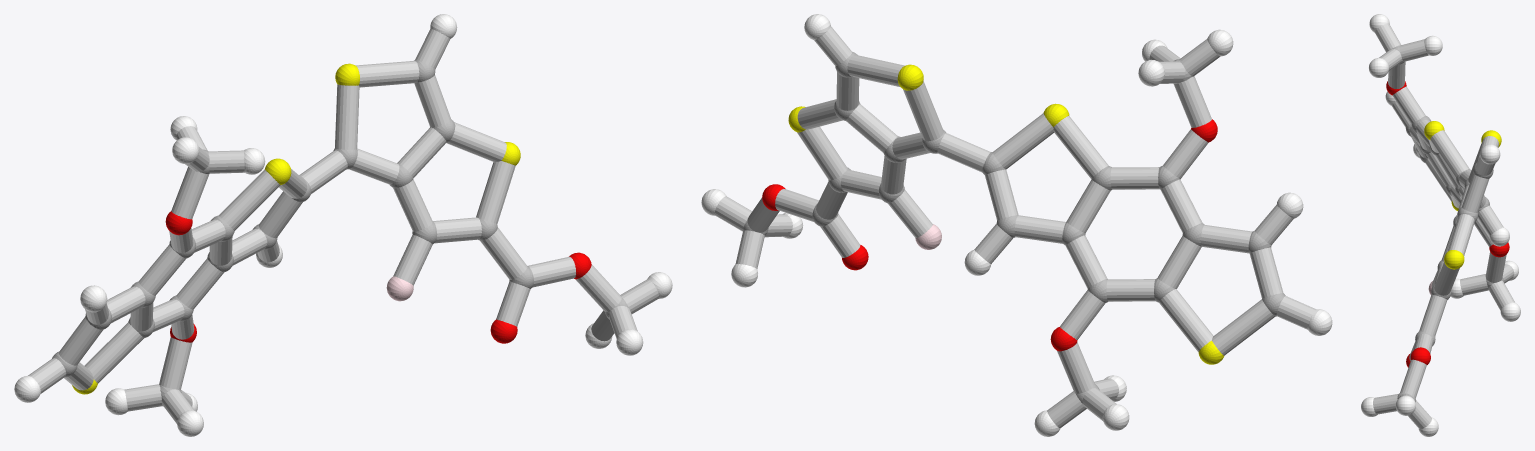
The model's file is color.glb.
The picture shows the model from 3 angles, left to right: view 1: azimuth 30°, elevation 25°; view 2: azimuth 150°, elevation 25°; view 3: azimuth 270°, elevation 25°; orthographic projection. The views are drawn at different scales.
Parts seen in each view (by area): view 1: grp15205, grp8689, grp1, grp13395, grp7241; view 2: grp15205, grp8689, grp1, grp7241, grp13395; view 3: grp15205, grp8689, grp1, grp7241, grp13395.
Boxes of the visible parts, x1,y1,x2,y2 form: grp15205: [28, 29, 659, 423]; grp8689: [14, 14, 672, 436]; grp1: [52, 59, 628, 406]; grp13395: [165, 211, 591, 343]; grp7241: [72, 63, 520, 394]; grp15205: [714, 26, 1316, 428]; grp8689: [701, 14, 1332, 436]; grp1: [743, 52, 1285, 403]; grp7241: [788, 64, 1224, 364]; grp13395: [762, 119, 1217, 351]; grp15205: [1373, 24, 1514, 429]; grp8689: [1361, 14, 1520, 436]; grp1: [1392, 45, 1503, 402]; grp7241: [1424, 121, 1501, 269]; grp13395: [1386, 81, 1509, 367].
Size of the model in its own units: 16.47 by 8.92 by 4.71.
